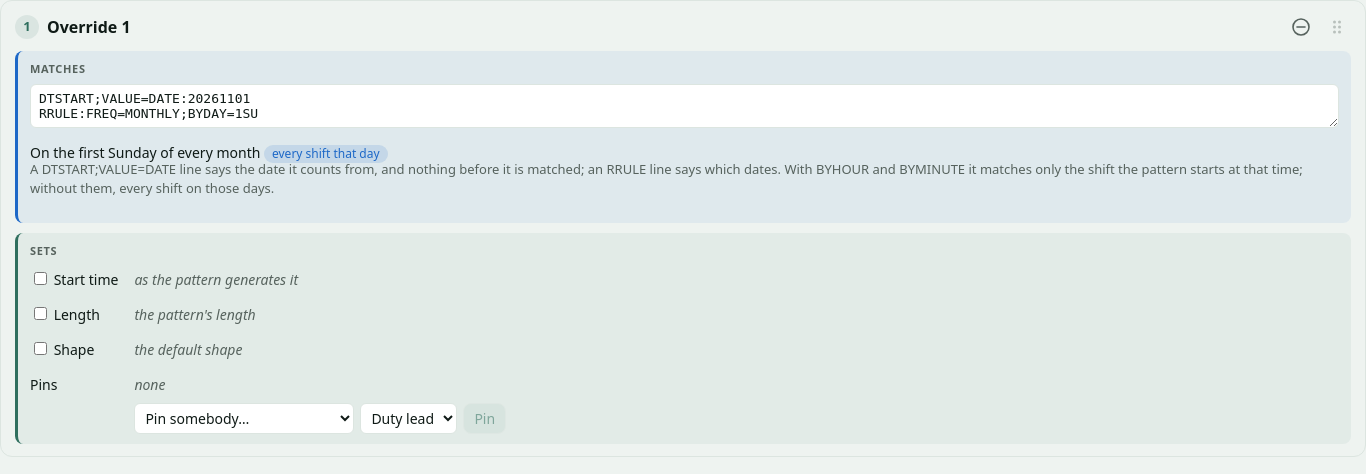
OverrideCard › a rule the server cannot read is not saved
Replace the text in the text box named "Override 1 rule" with "FREQ=SOMETIMES" at (684, 106), box [30, 84, 1339, 128]
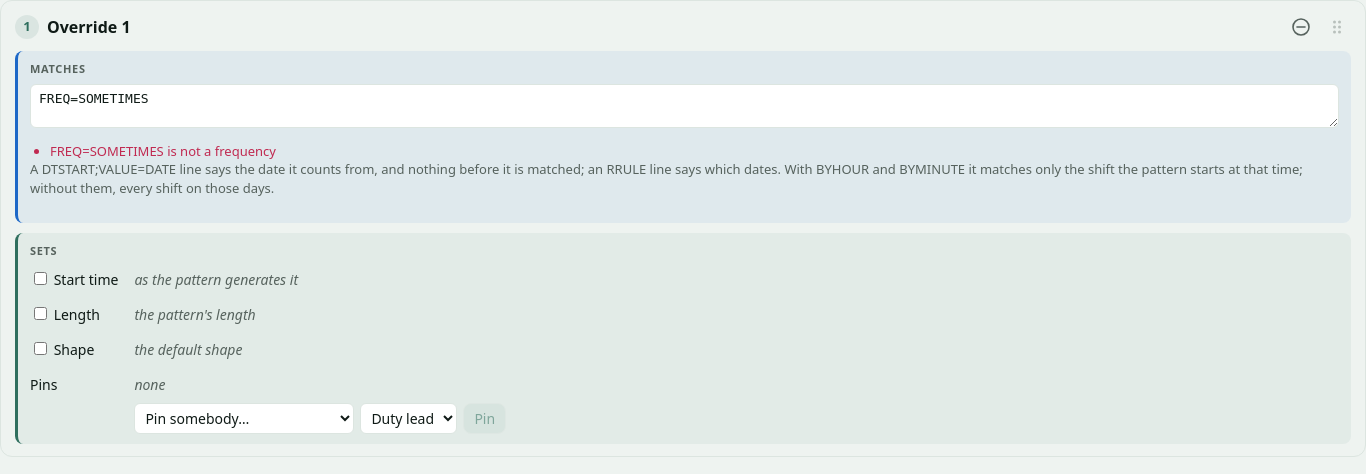
Check: the list item "FREQ=SOMETIMES is not a frequency" is shown, box [50, 142, 276, 160]
